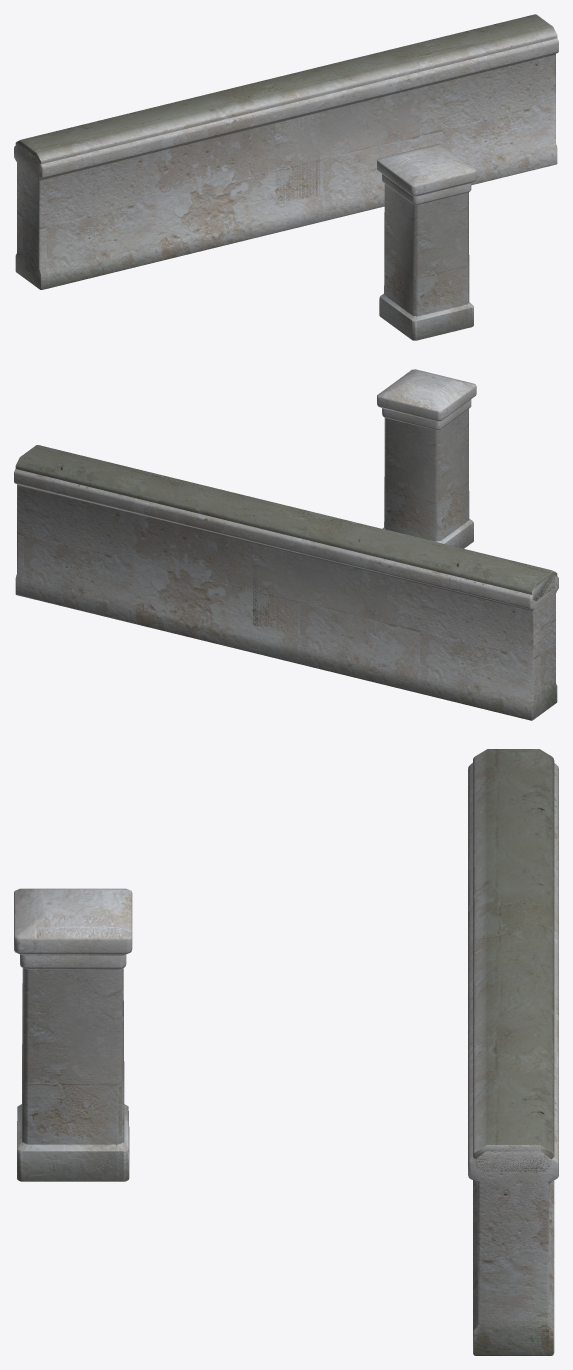
Rendered from parapet.glb.
The picture shows the model from 3 angles, top to bottom: view 1: azimuth 30°, elevation 25°; view 2: azimuth 150°, elevation 25°; view 3: azimuth 270°, elevation 25°; orthographic projection. The views are drawn at different scales.
Visible parts, largest first — view 1: wall_a, balustrade_body, post_lamp, post; view 2: wall_a, balustrade_body, post_lamp, post; view 3: balustrade_body, post_lamp, wall_a, post.
Boxes of the visible parts, x1,y1,x2,y2 form: wall_a: [14, 38, 558, 289]; balustrade_body: [15, 14, 557, 288]; post_lamp: [377, 144, 476, 340]; post: [382, 174, 471, 204]; wall_a: [14, 469, 558, 720]; balustrade_body: [15, 445, 557, 709]; post_lamp: [377, 369, 476, 548]; post: [382, 399, 471, 430]; balustrade_body: [473, 749, 554, 1355]; post_lamp: [14, 888, 132, 1181]; wall_a: [468, 763, 558, 1355]; post: [20, 954, 126, 969].
Bounding box in the file's own units: 3.92 × 1.18 × 2.28.
Materials: 1 (1 with a texture image).
